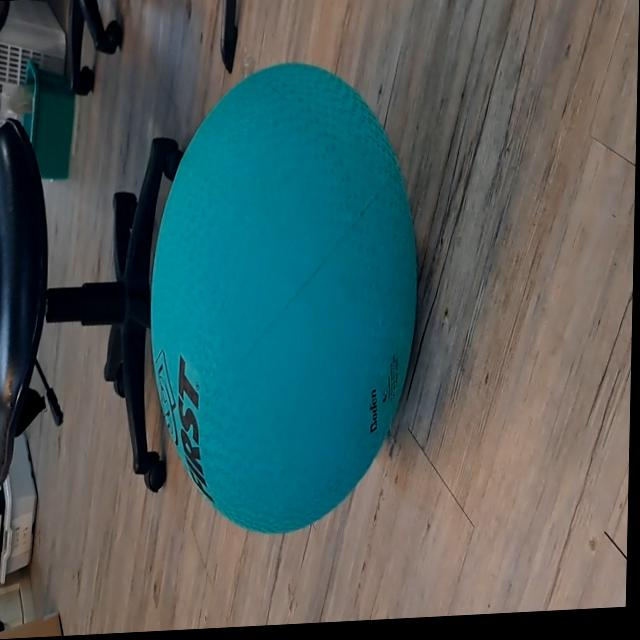ALGAE: (143, 53, 424, 543)
